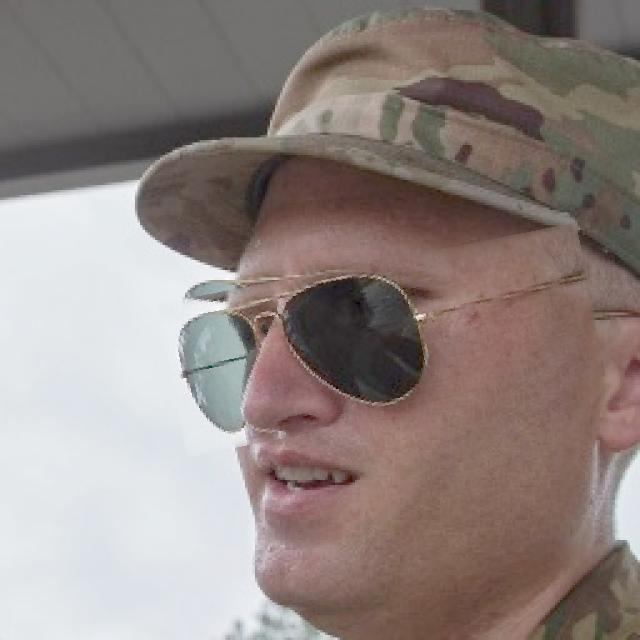glasses: (163, 243, 600, 438)
